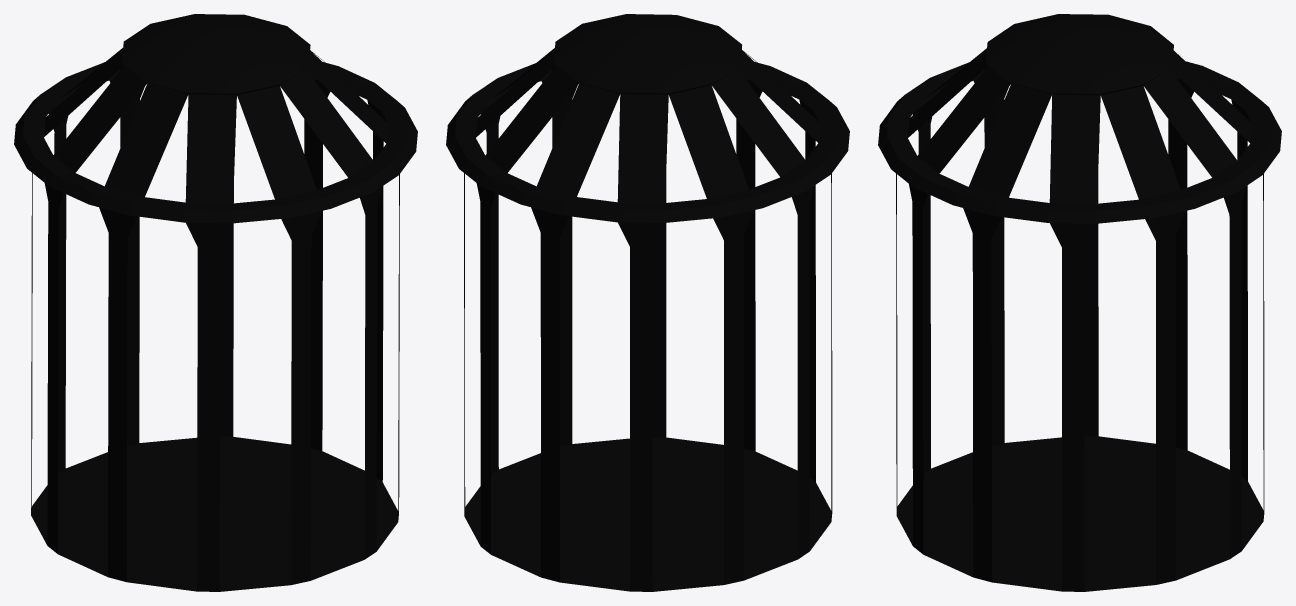
Rendered from pm-love-death-cage.glb.
3 renders of one model, left to right at view 1: azimuth 30°, elevation 25°; view 2: azimuth 150°, elevation 25°; view 3: azimuth 270°, elevation 25°, orthographic.
Parts seen in each view (by area): view 1: LoveDeath_Cage_Art; view 2: LoveDeath_Cage_Art; view 3: LoveDeath_Cage_Art.
Part boxes in pixels (x1,y1,x2,y2): LoveDeath_Cage_Art: (14, 14, 417, 591); LoveDeath_Cage_Art: (446, 14, 849, 591); LoveDeath_Cage_Art: (878, 14, 1281, 591).
Size of the model in its own units: 1.67 by 2.22 by 1.67.
1 material, 1 textured.
